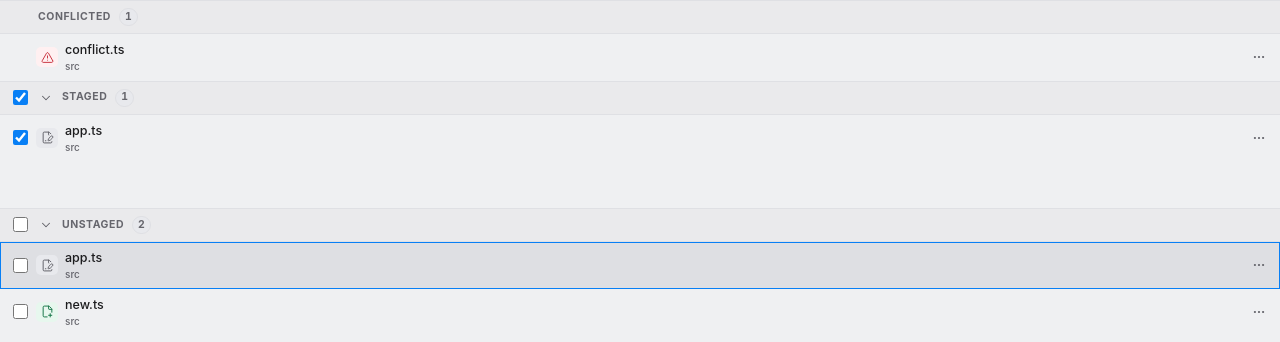
it: DiffFileList staging controls › expands a collapsed destination before moving a file into it
Click the button named "Collapse Staged": (46, 98) [34, 86, 58, 110]
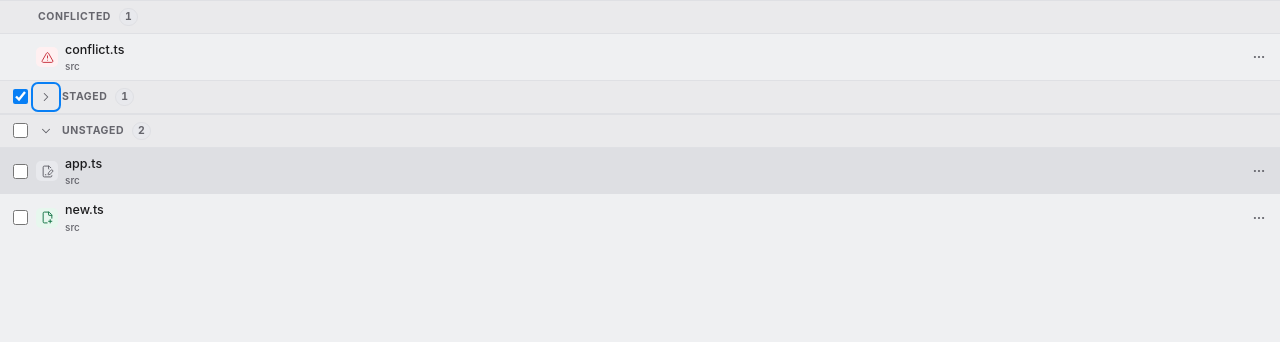
Check: the button named "Expand Staged" is shown, box [34, 85, 58, 109]
Click the checkbox named "Stage src/new.ts": (20, 218) [12, 210, 28, 225]
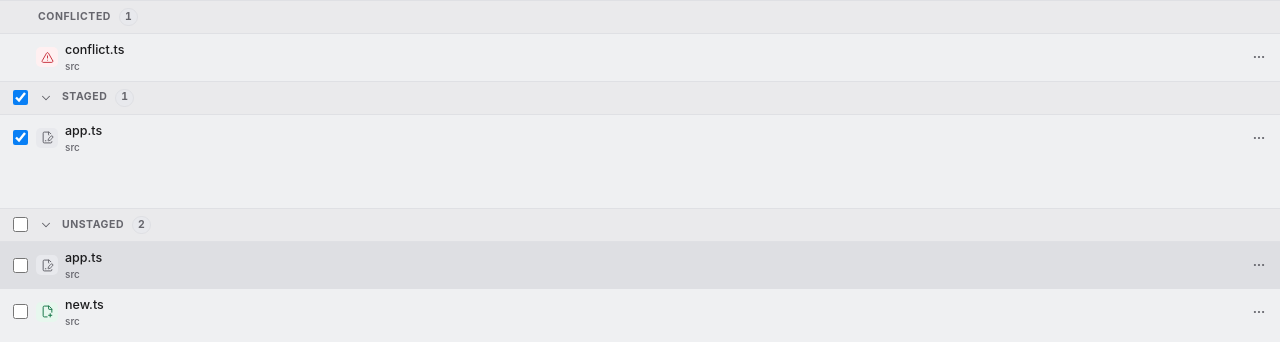
Check: the button named "Collapse Staged" is expanded, box [34, 86, 58, 110]
